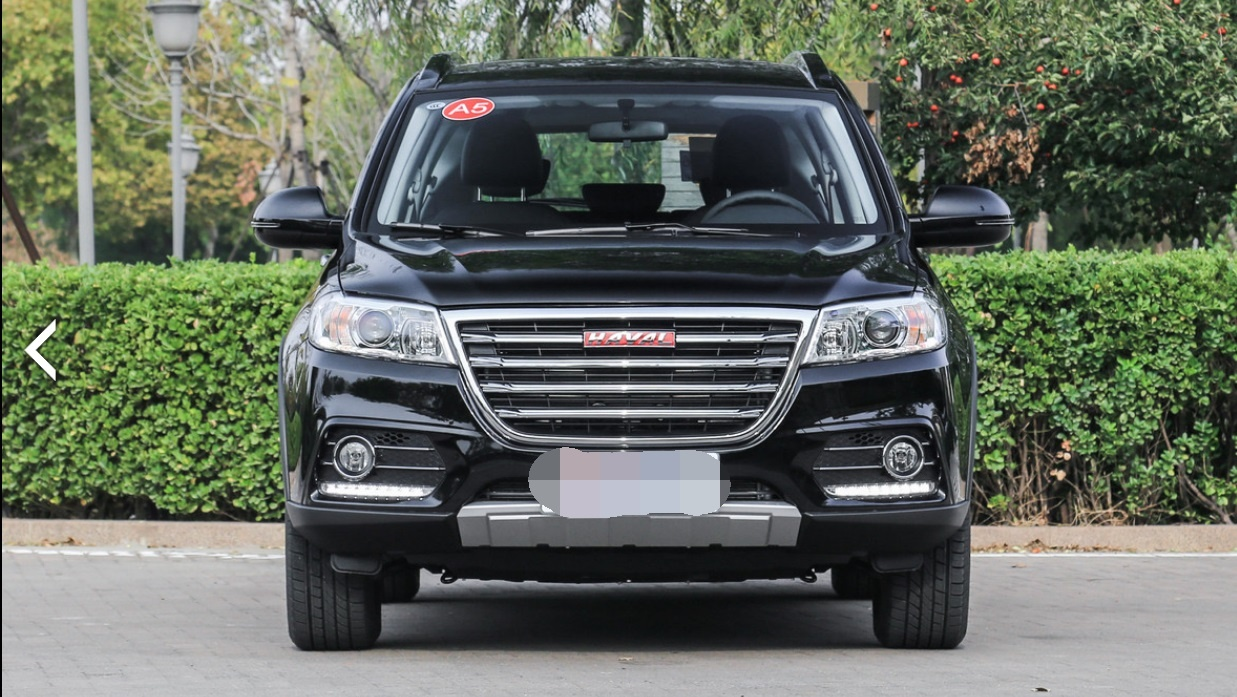SUV: (247, 51, 1002, 645)
